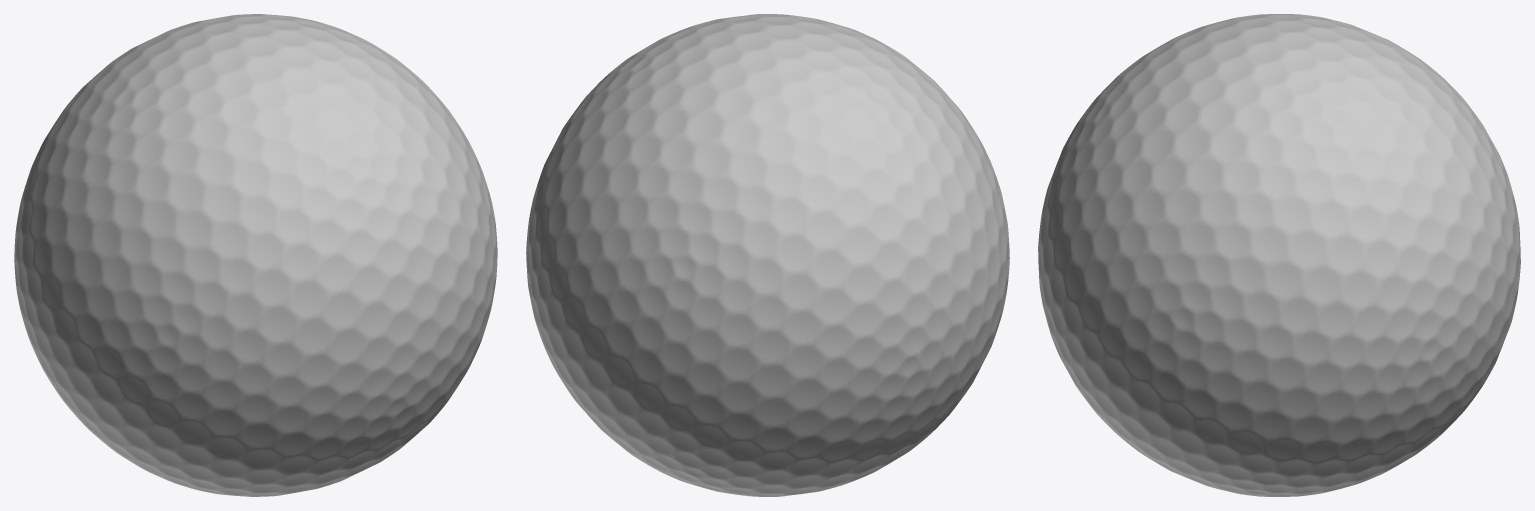
The model's file is golf_ball.glb.
3 renders of one model, left to right at view 1: azimuth 30°, elevation 25°; view 2: azimuth 150°, elevation 25°; view 3: azimuth 270°, elevation 25°, orthographic.
Parts seen in each view (by area): view 1: golf ball; view 2: golf ball; view 3: golf ball.
Boxes of the visible parts, left/top/right/bottom form: golf ball: left=14, top=14, right=497, bottom=496; golf ball: left=526, top=14, right=1009, bottom=496; golf ball: left=1038, top=14, right=1520, bottom=496.
Size of the model in its own units: 0.5097 by 0.5093 by 0.5094.
Materials: 1 (1 with a texture image).
